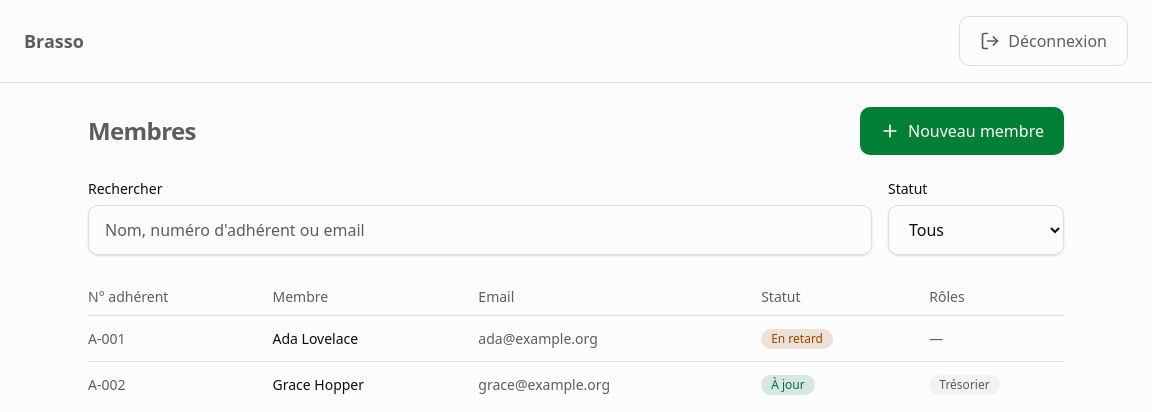
Scenario: fichier membres — liste & recherche (M6-09) › recherche par nom → GET filtré côté serveur
The image size is (1152, 412).
Expected: the button "Ada Lovelace" is shown, [272,328,358,348]
Type "Hopper" into the field labelled "Rechercher" at (480, 230), box [88,205,872,255]
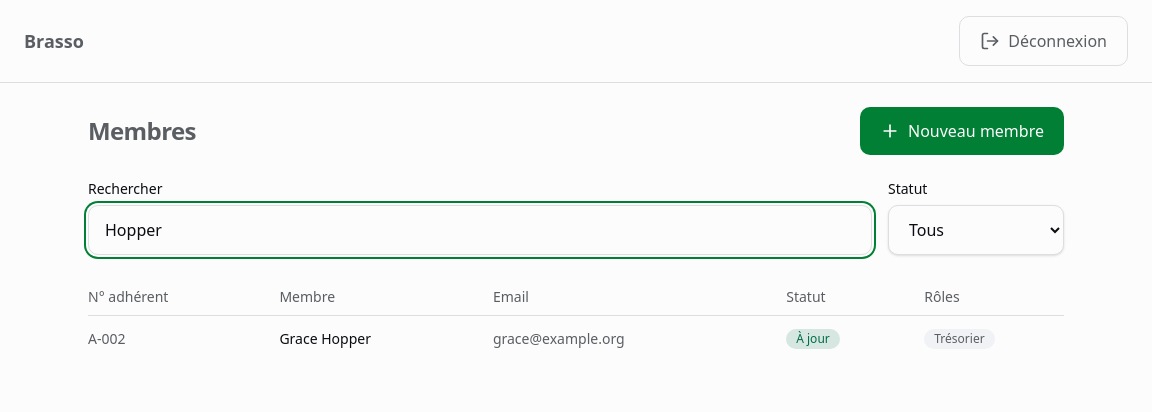
Expected: the button "Grace Hopper" is shown, [279,328,371,348]
Result: the button "Ada Lovelace" is gone
